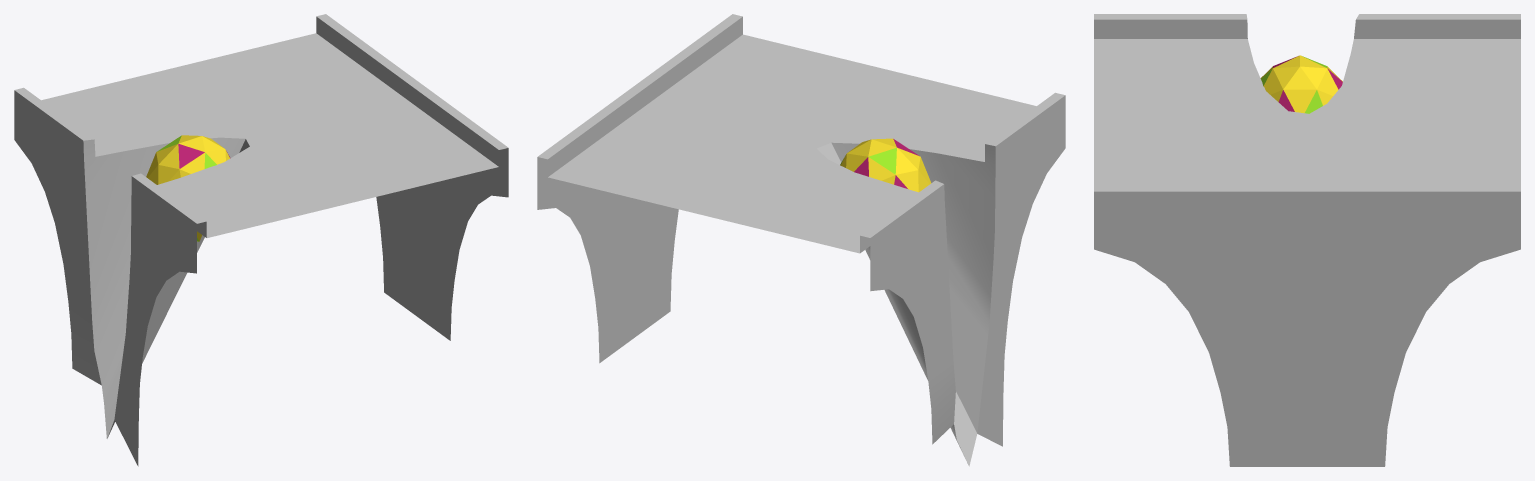
The model's file is мост с сферой1.fbx.
3 views of the same model, side by side, from view 1: azimuth 30°, elevation 25°; view 2: azimuth 150°, elevation 25°; view 3: azimuth 270°, elevation 25° (orthographic). The views are drawn at different scales.
Visible parts, largest first — view 1: сост с ферой; view 2: сост с ферой; view 3: сост с ферой.
Boxes of the visible parts, x1,y1,x2,y2 form: сост с ферой: (14, 14, 508, 466); сост с ферой: (537, 14, 1065, 466); сост с ферой: (1094, 14, 1520, 466).
Size of the model in its own units: 6.08 by 5.34 by 6.18.
